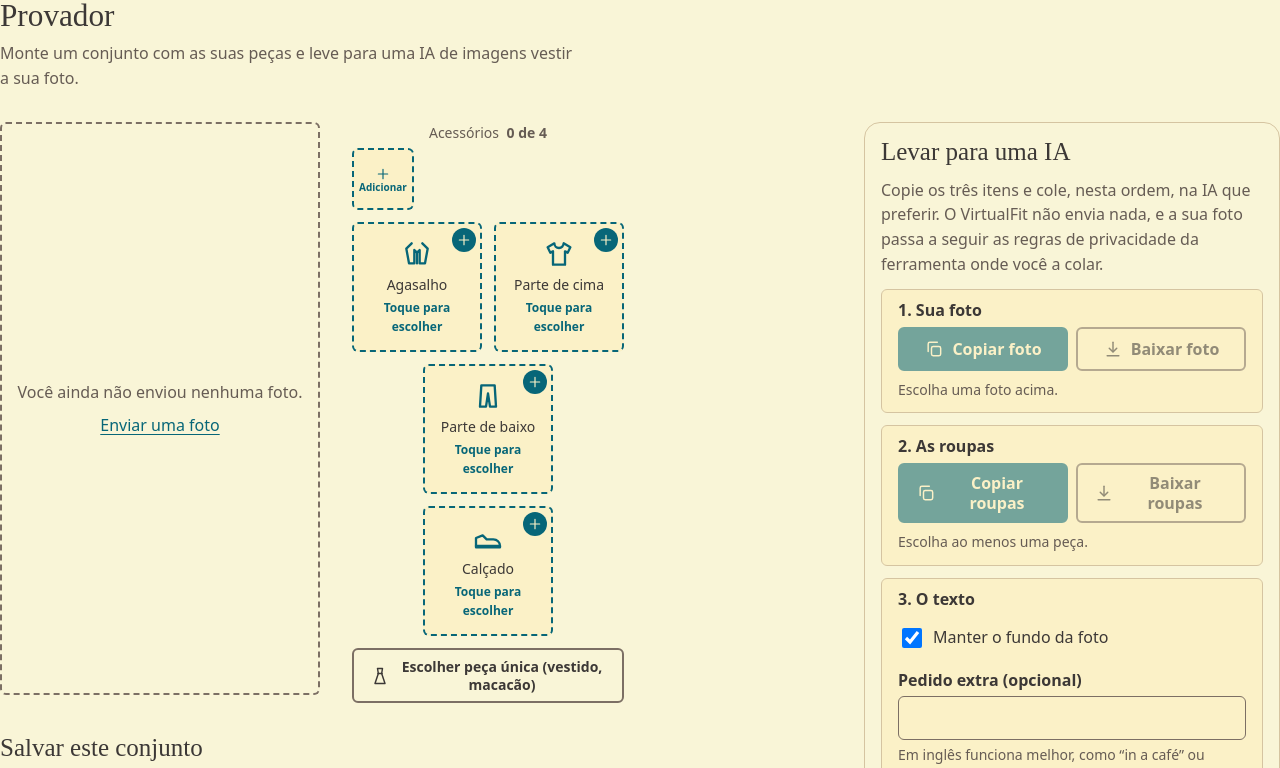
Test: provador: carregamento › sem fotos, convida a enviar uma, e o resto continua funcionando
Click the button "Parte de cima Toque para escolher" at x=559, y=287, box left=494, top=222, right=624, bottom=352
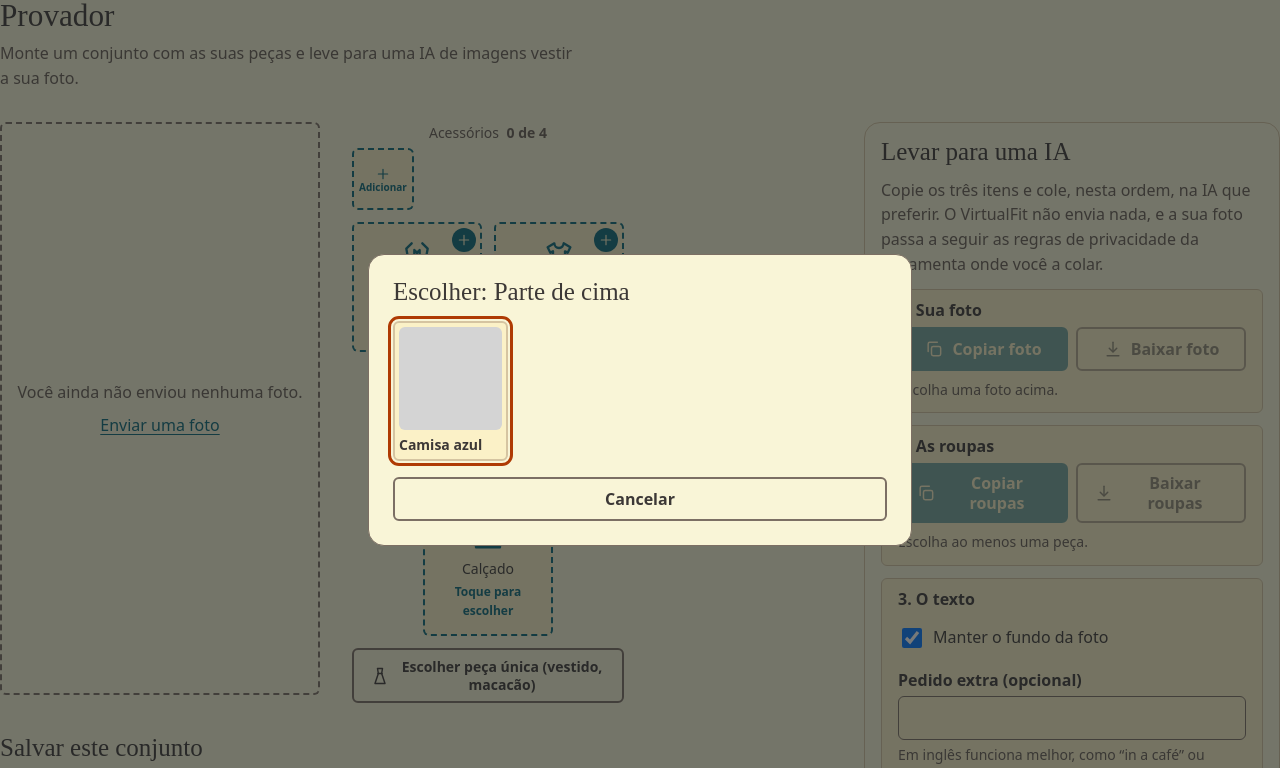
Click the button "Camisa azul" at x=450, y=391, box left=393, top=321, right=508, bottom=461
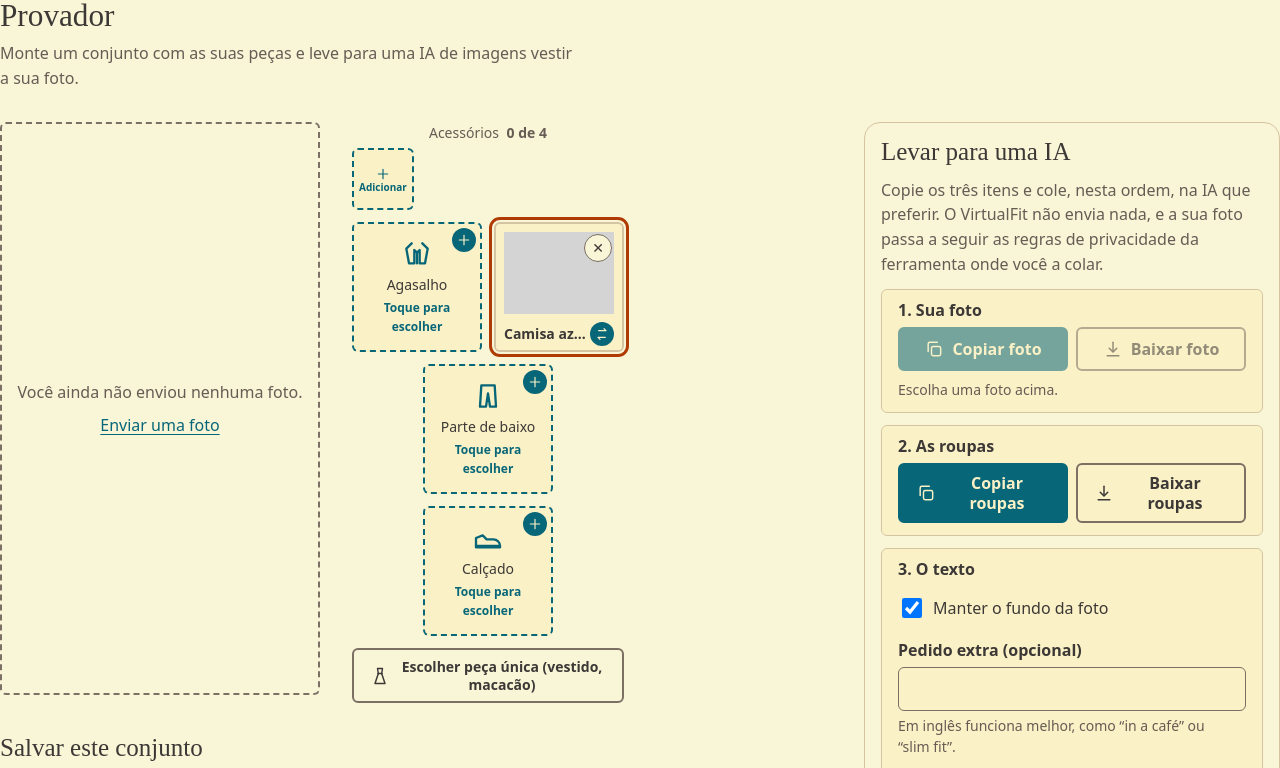
Expected: the button "Copiar roupas" is enabled, left=898, top=463, right=1068, bottom=523
